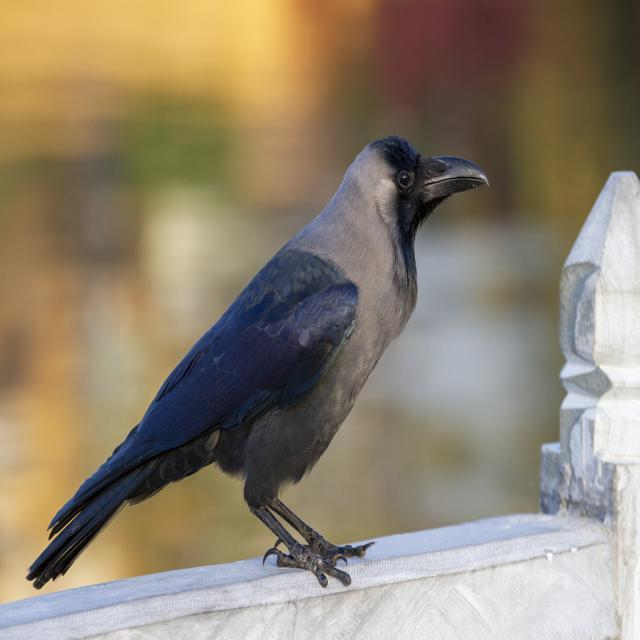bird: (22, 130, 497, 608)
